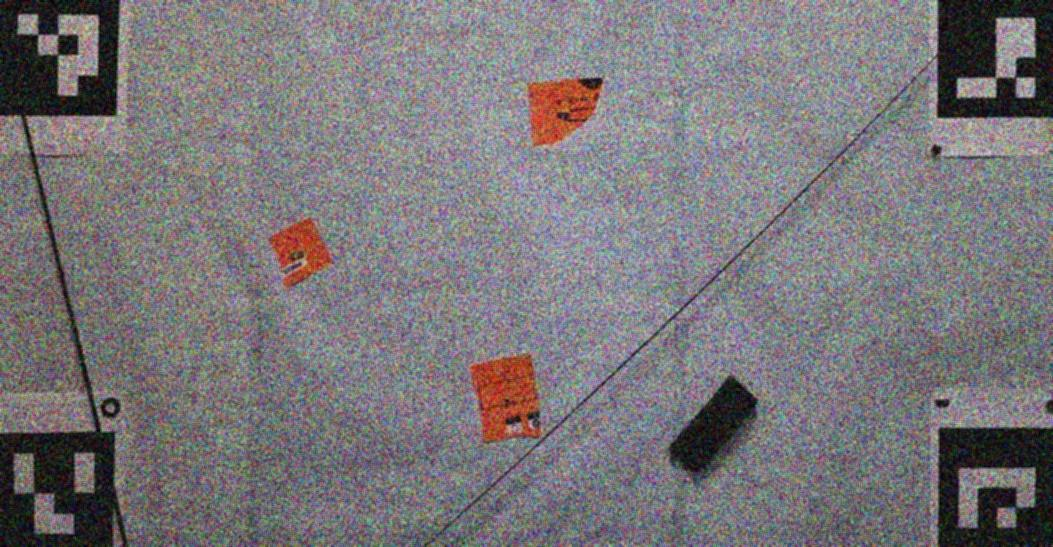obstacle: (670, 377, 758, 479), (471, 355, 542, 442), (527, 77, 602, 148), (272, 215, 333, 288)
